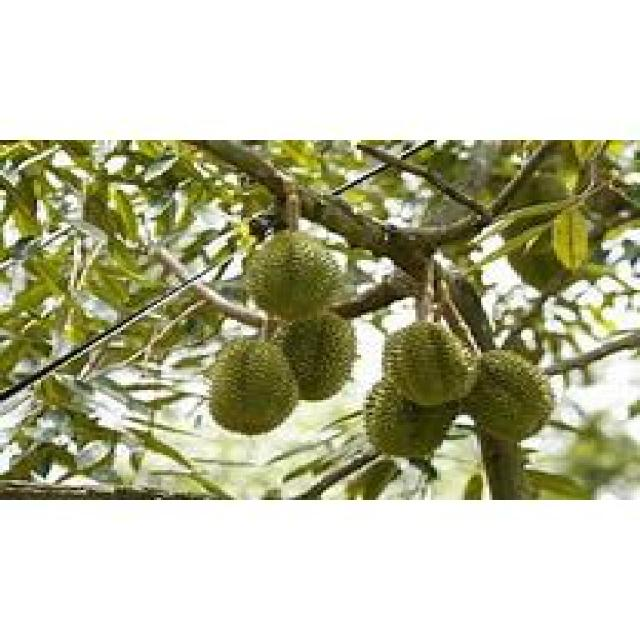fruit: (351, 308, 477, 472), (234, 220, 351, 335), (194, 325, 308, 443), (459, 340, 563, 450), (268, 300, 366, 410)
